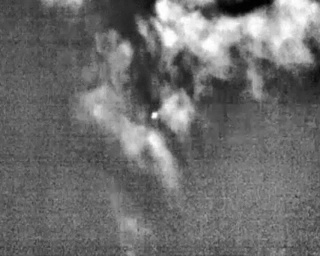AIRPLANE: (138, 115, 150, 128)
